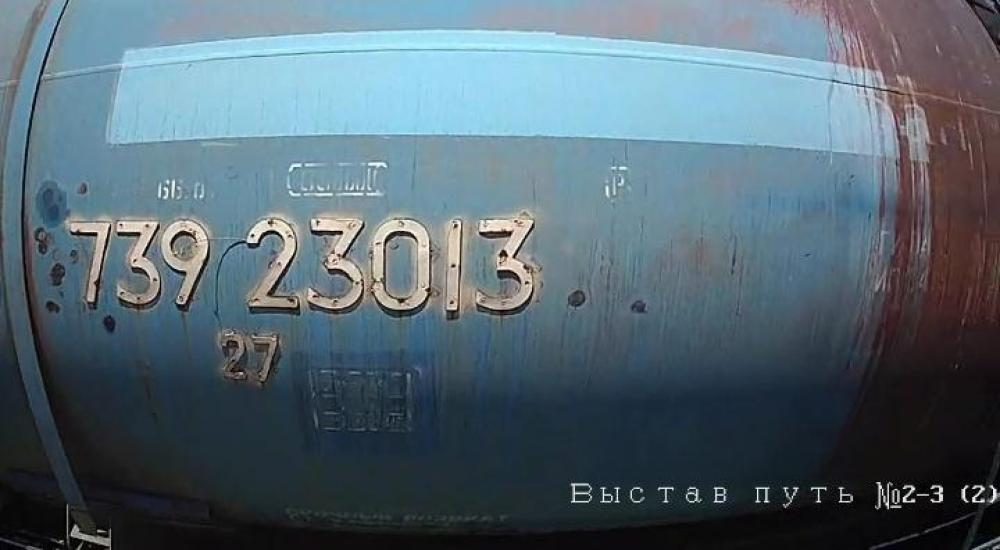Wagon-number: (60, 213, 541, 323)
